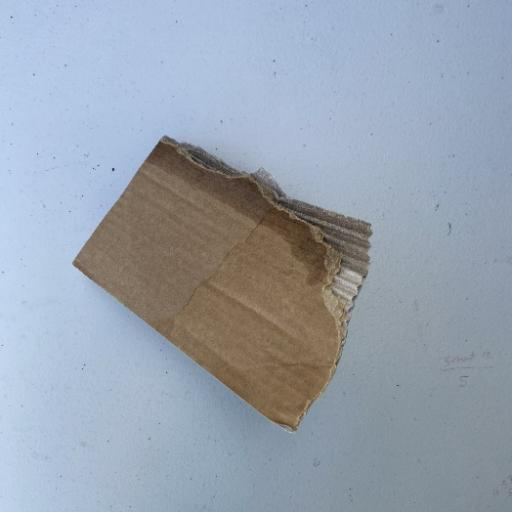Cardboard: (70, 133, 374, 434)
